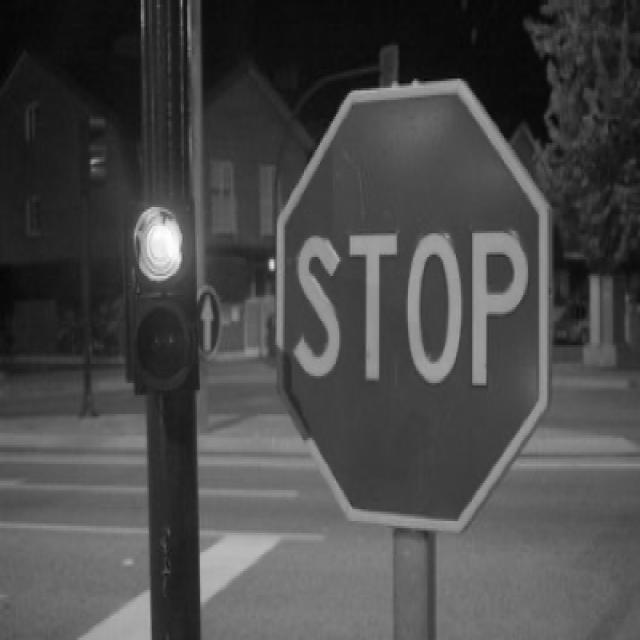Stop-signs: (278, 80, 550, 533)
